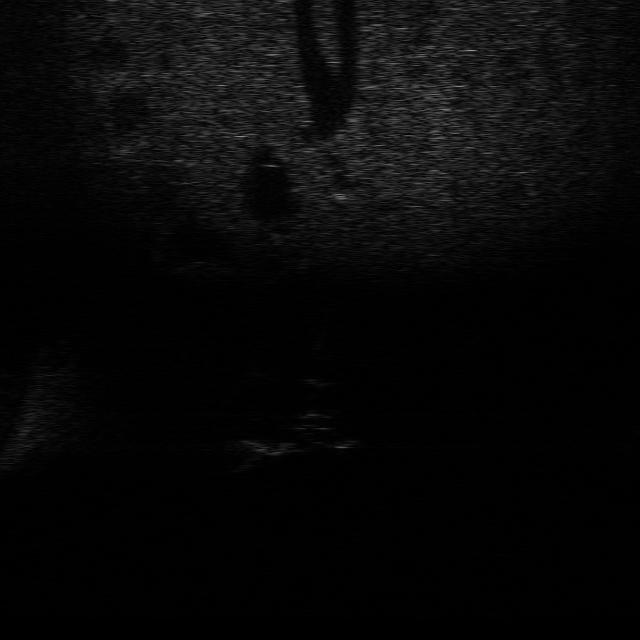ball: (295, 366, 341, 392)
square cage: (222, 435, 308, 469)
tyre: (292, 420, 362, 452)
